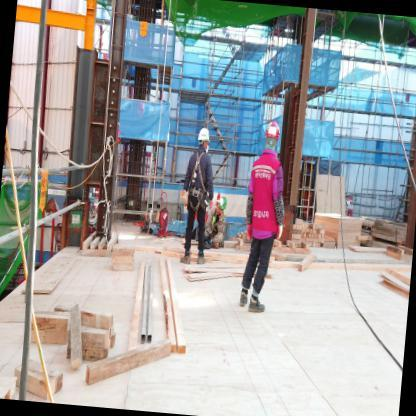safety-shoe: (247, 296, 265, 316), (176, 251, 192, 268), (235, 293, 249, 312), (198, 252, 211, 268)
